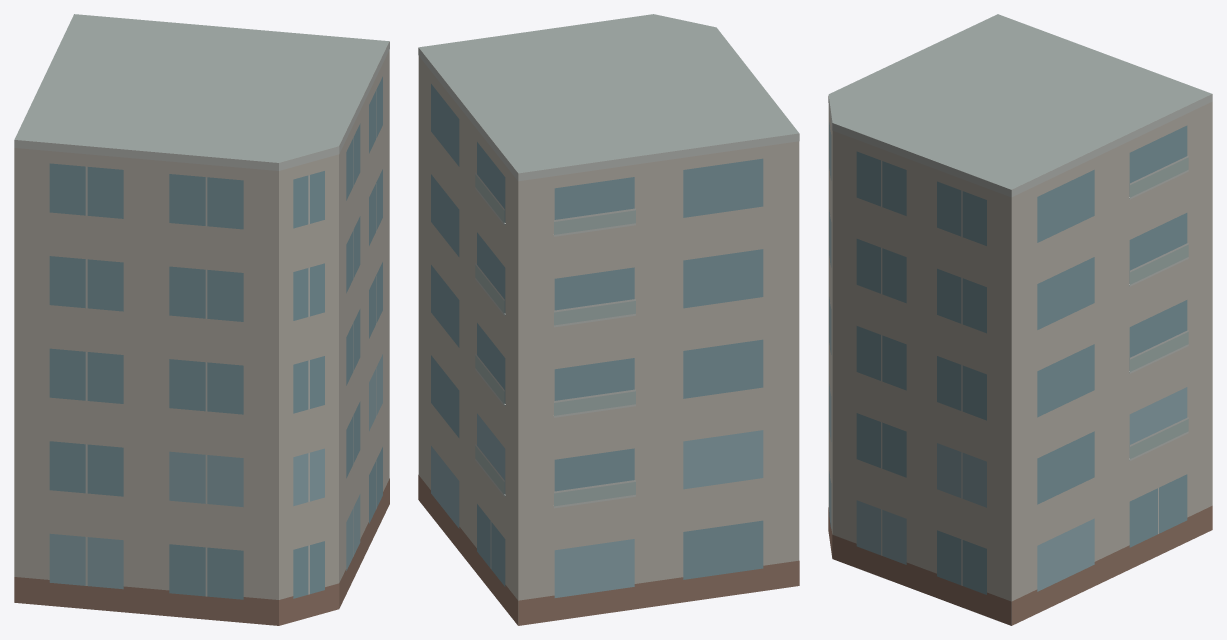
The model's file is survey-upis-32539871.glb.
The picture shows the model from 3 angles, left to right: view 1: azimuth 30°, elevation 25°; view 2: azimuth 150°, elevation 25°; view 3: azimuth 270°, elevation 25°; orthographic projection. The views are drawn at different scales.
Parts seen in each view (by area): view 1: survey-upis-32539871.tmp; view 2: survey-upis-32539871.tmp; view 3: survey-upis-32539871.tmp.
Boxes of the visible parts, bbox=[...] form: survey-upis-32539871.tmp: bbox=[14, 14, 389, 625]; survey-upis-32539871.tmp: bbox=[418, 14, 799, 625]; survey-upis-32539871.tmp: bbox=[828, 14, 1212, 625].
Bounding box in the file's own units: 12.12 × 14 × 11.18.
